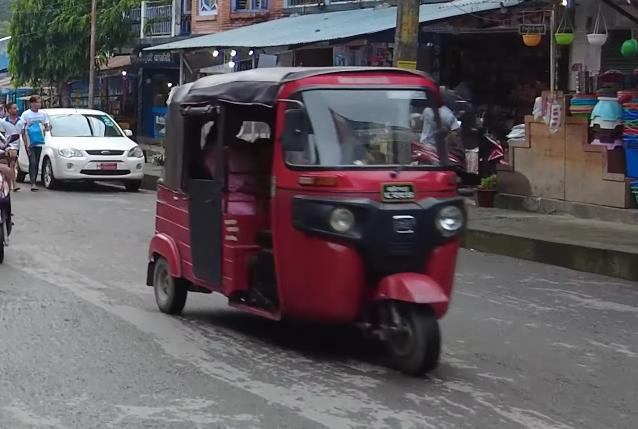auto_rickshaw: (139, 61, 471, 380)
car: (11, 106, 146, 191)
